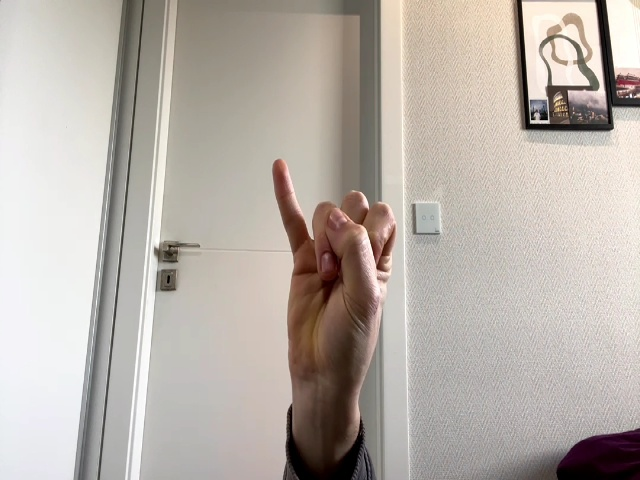I: (272, 159, 397, 392)
